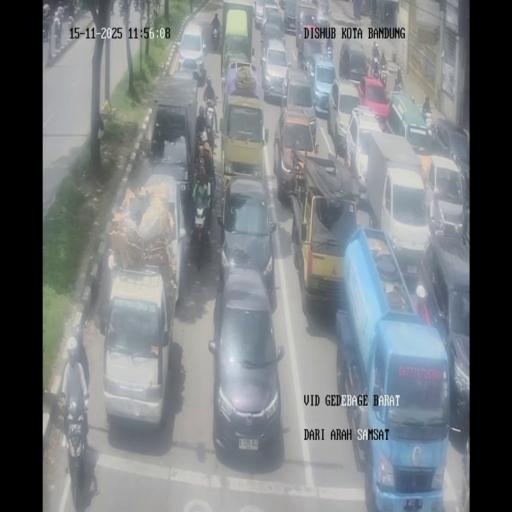3: (337, 232, 449, 506), (289, 153, 359, 315), (360, 132, 426, 265), (144, 78, 199, 217), (220, 4, 254, 85)
car: (101, 269, 174, 433), (217, 177, 277, 302), (218, 92, 266, 195), (273, 104, 317, 202), (423, 153, 466, 237), (331, 78, 364, 150), (260, 39, 290, 103), (307, 54, 336, 116), (177, 22, 207, 80), (357, 75, 390, 123), (296, 1, 320, 49), (339, 41, 367, 81), (279, 0, 298, 32), (251, 0, 269, 27), (315, 0, 331, 29)
truck: (61, 395, 93, 507), (190, 192, 212, 270), (203, 97, 219, 143), (195, 119, 207, 148), (53, 12, 63, 46), (368, 56, 382, 79), (65, 10, 75, 39), (422, 106, 433, 132), (211, 23, 220, 52), (379, 62, 388, 87), (394, 74, 404, 93), (42, 17, 49, 42), (326, 40, 333, 61), (74, 0, 82, 15), (124, 0, 131, 16), (145, 0, 151, 18), (133, 0, 142, 11), (154, 0, 161, 14), (118, 0, 124, 16), (110, 0, 116, 15)
